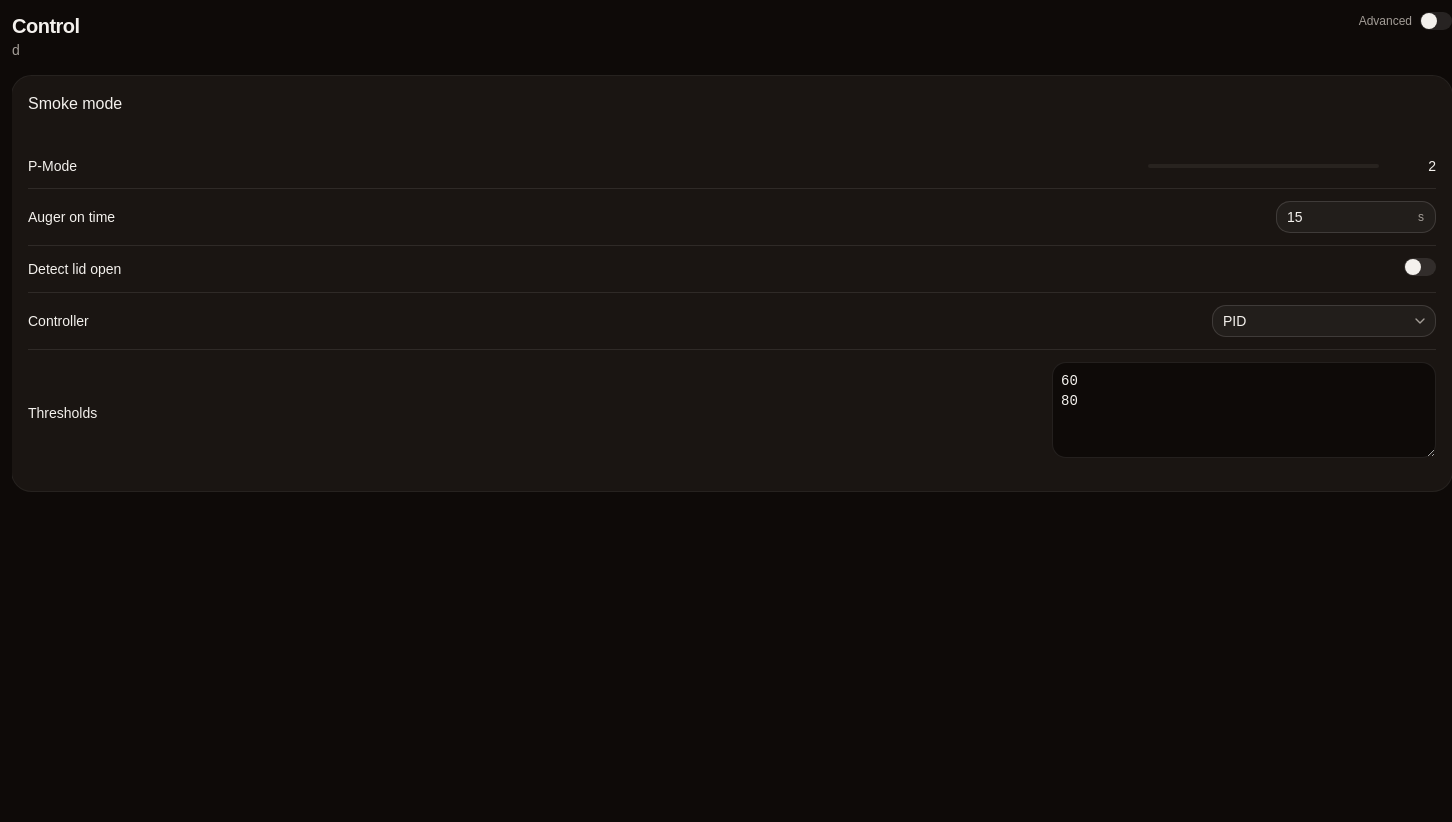
Test: SchemaSectionForm › toggling a switch reveals dependent fields
The width and height of the screenshot is (1452, 822).
Click the switch named "Detect lid open" in the row of "Detect lid open" at [1420, 267], box [1404,258,1436,276]
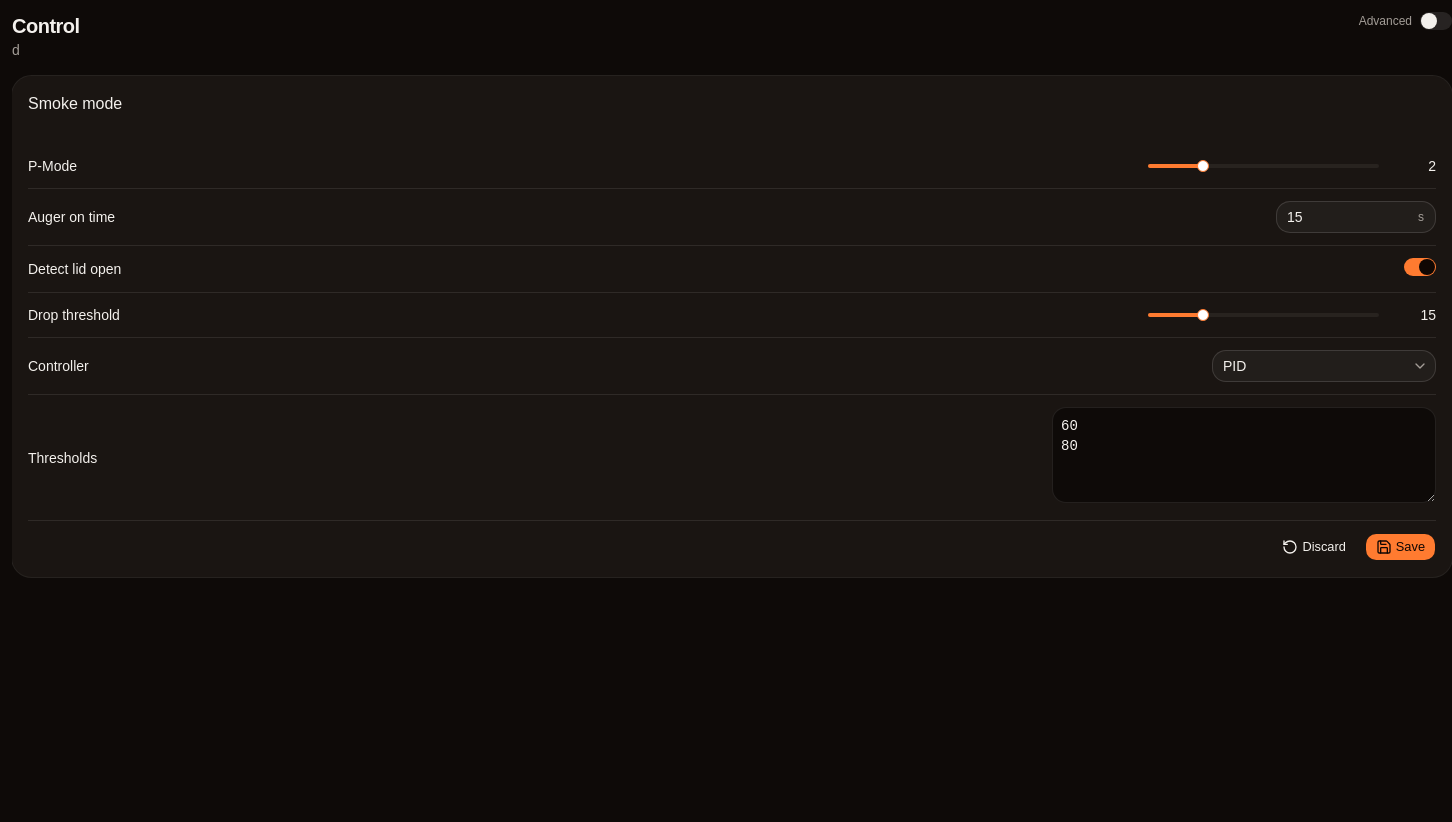
Expected: the text "Drop threshold" is shown, [28,305,120,325]
